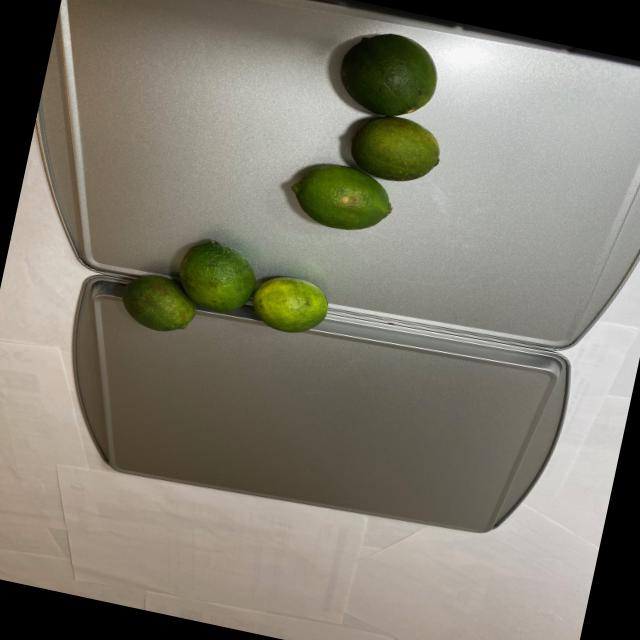lemon: (272, 16, 476, 262), (108, 216, 347, 366)
